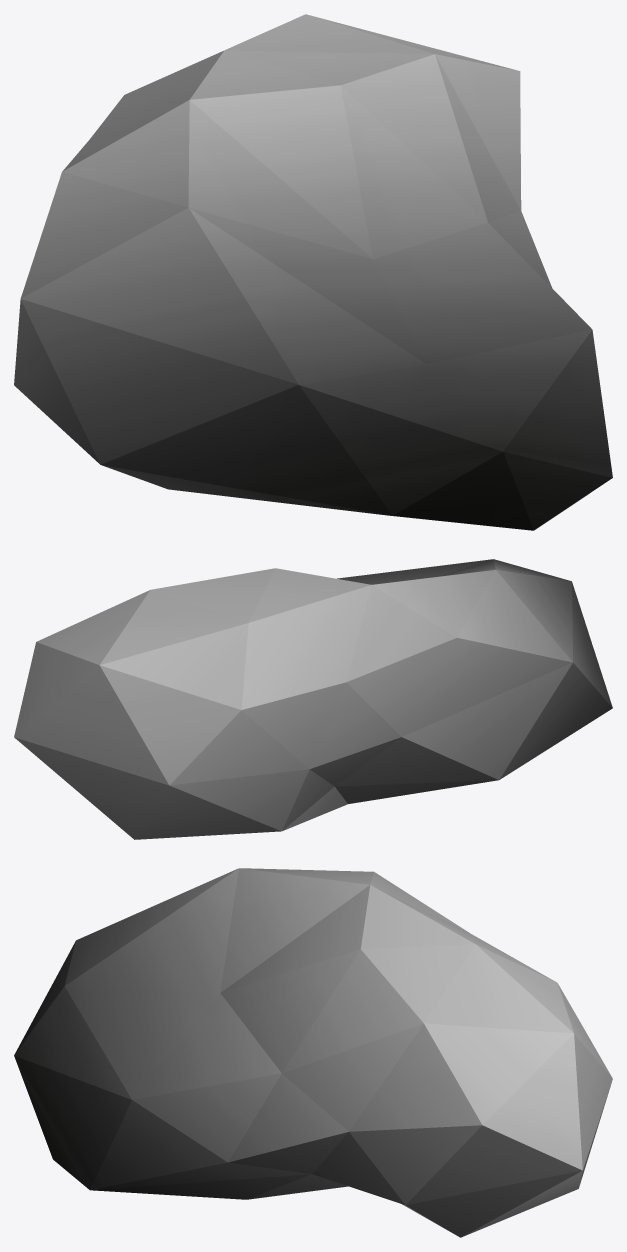
File: INSTANCE_ROCK_V2.glb
3 views of the same model, one above another, from view 1: azimuth 30°, elevation 25°; view 2: azimuth 150°, elevation 25°; view 3: azimuth 270°, elevation 25° (orthographic). The views are drawn at different scales.
Visible parts, largest first — view 1: ROCK_V2; view 2: ROCK_V2; view 3: ROCK_V2.
Part boxes in pixels (x1,y1,x2,y2): ROCK_V2: (14,14,612,530); ROCK_V2: (14,559,612,839); ROCK_V2: (14,868,612,1237).
Size of the model in its own units: 0.3304 by 0.1787 by 0.3636.
Materials: 1 (1 with a texture image).
